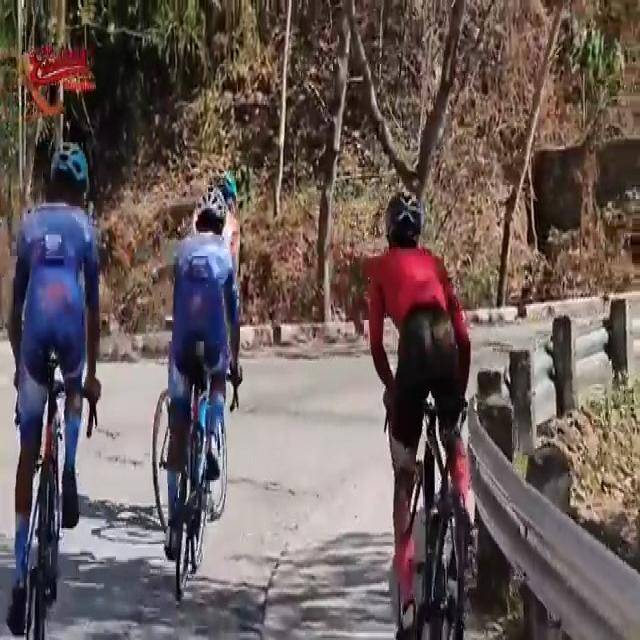bike: (366, 186, 478, 640), (7, 142, 103, 640), (154, 170, 242, 532), (168, 183, 210, 592)
